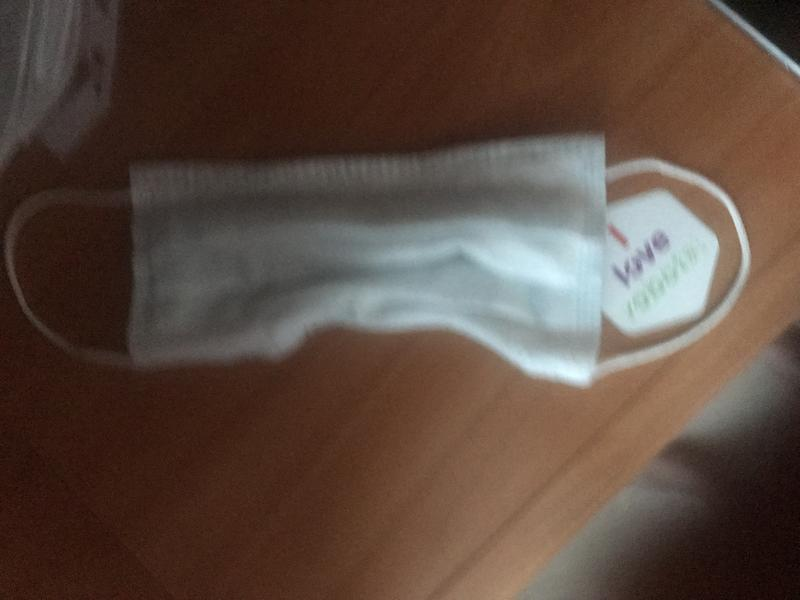medical_mask: (8, 132, 753, 387)
